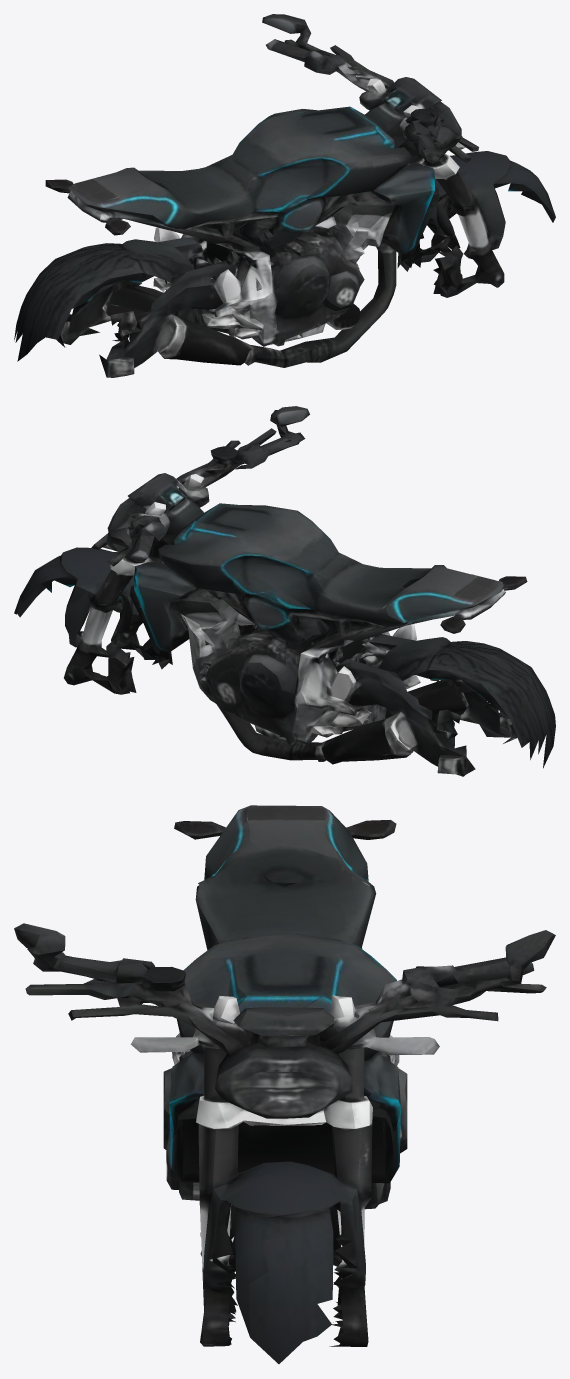
Rendered from moto.glb.
3 views of the same model, one above another, from view 1: azimuth 30°, elevation 25°; view 2: azimuth 150°, elevation 25°; view 3: azimuth 270°, elevation 25° (orthographic). The views are drawn at different scales.
Visible parts, largest first — view 1: world; view 2: world; view 3: world.
Boxes of the visible parts, x1,y1,x2,y2 form: world: (14, 14, 555, 377); world: (14, 406, 555, 776); world: (14, 805, 555, 1363).
Bounding box in the file's own units: 2.1 × 0.9742 × 1.23.
Materials: 1 (1 with a texture image).
